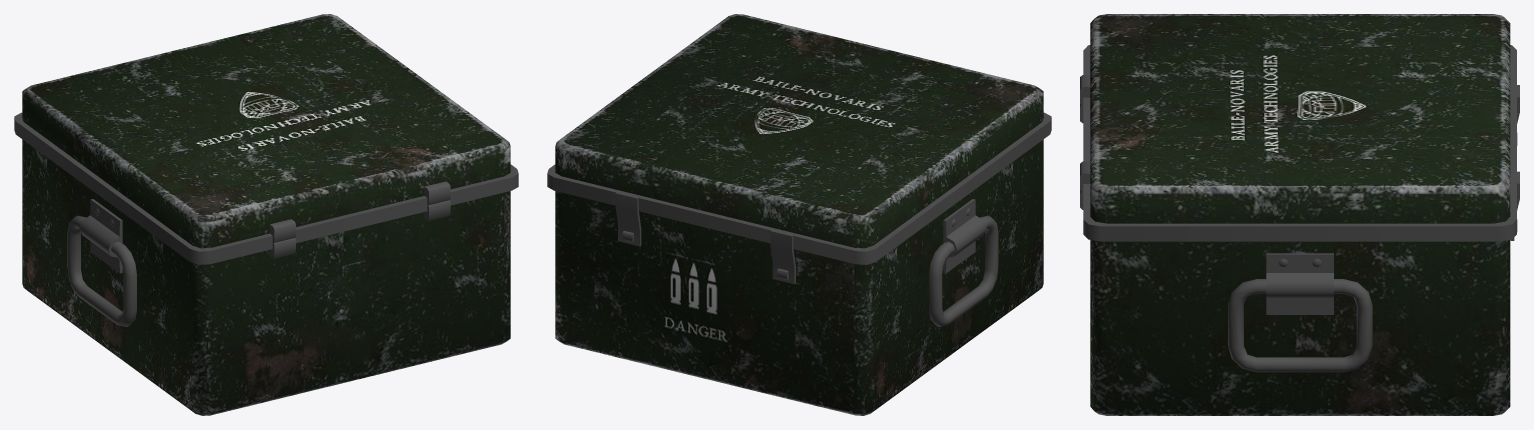
The model's file is ammo_box.glb.
3 renders of one model, left to right at view 1: azimuth 30°, elevation 25°; view 2: azimuth 150°, elevation 25°; view 3: azimuth 270°, elevation 25°, orthographic. The views are drawn at different scales.
Visible parts, largest first — view 1: Object_2; view 2: Object_2; view 3: Object_2.
Boxes of the visible parts, x1,y1,x2,y2 form: Object_2: [14, 14, 518, 415]; Object_2: [547, 14, 1051, 415]; Object_2: [1080, 14, 1519, 415].
Size of the model in its own units: 0.5445 by 0.3 by 0.5235.
1 material, 1 textured.
